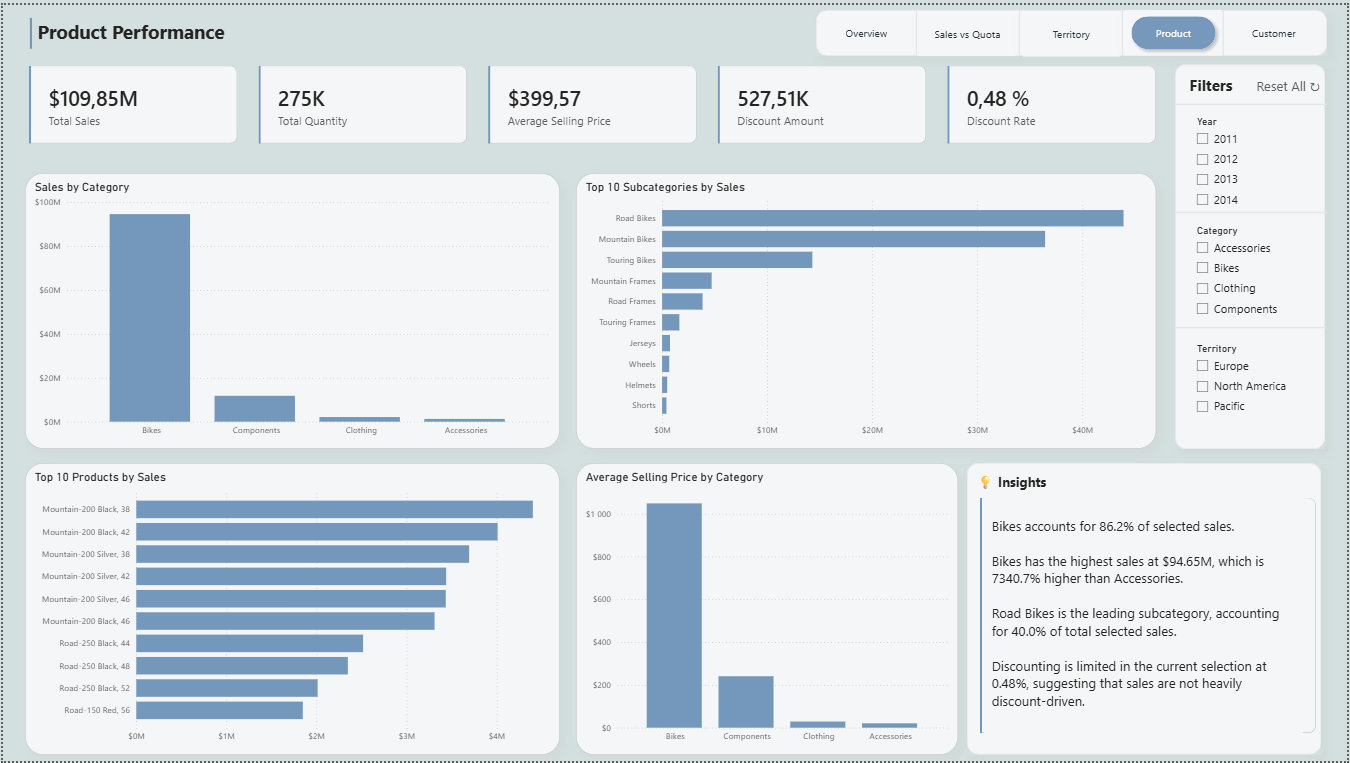

This screenshot's page, from the dashboard's own definition file:
{"tool":"powerbi","page":{"name":"4: Product Performance","canvas":[1920,1080],"ordinal":3},"visuals":[{"type":"group","id":"g1","title":"Group 4","box":[1167.9,7.7,715.1,66.2],"z":0,"group":"g4"},{"type":"shape","box":[1161.8,7.9,730,65.6],"z":0,"group":"g5"},{"type":"actionButton","title":"Sales vs Quota","box":[1309.6,10.5,138.4,62.6],"z":0,"group":"g1"},{"type":"slicer","fields":{"Values":["dim_date.Year"]},"box":[1693.1,152.1,93.3,160],"z":0,"group":"g6"},{"type":"shape","box":[1376.7,654.8,505.9,416.5],"z":0,"group":"g2"},{"type":"shape","box":[0,0,1920,1080],"z":500},{"type":"shape","box":[1299.6,7.3,12.5,66],"z":1000,"group":"g4"},{"type":"actionButton","title":"Sales vs Quota","box":[1457.8,8.6,138.2,65.3],"z":1000,"group":"g1"},{"type":"cardVisual","fields":{"Data":["Measures (2).Total Sales","Measures (2).Total Quantity","Measures (2).Average Selling Price","Measures (2).Discount Amount","Measures (2).Discount Rate"]},"box":[19.6,70,1644.3,145.7],"z":1000},{"type":"shape","box":[1675.8,279.5,217.2,32.8],"z":1000,"group":"g6"},{"type":"shape","box":[1446.8,7.7,12.5,66.2],"z":2000,"group":"g4"},{"type":"actionButton","title":"Sales vs Quota","box":[1167.9,11,132.9,57.9],"z":2000,"group":"g1"},{"type":"columnChart","title":"Sales by Category","fields":{"Category":["dim_product.CategoryName"],"Y":["Measures (2).Total Sales"]},"box":[31,240,764.3,394.3],"z":2000},{"type":"slicer","fields":{"Values":["dim_product.CategoryName"]},"box":[1692.9,307.5,157.1,168.6],"z":2000,"group":"g6"},{"type":"textbox","box":[1385.2,663.7,302.8,40.9],"z":2000,"group":"g2"},{"type":"shape","box":[1593.6,7.7,12.5,66.2],"z":3000,"group":"g4"},{"type":"actionButton","title":"Sales vs Quota","box":[1602.9,7.7,138.3,65],"z":3000,"group":"g1"},{"type":"shape","box":[1674.4,84.4,214.4,550],"z":3000},{"type":"slicer","fields":{"Values":["dim_territory.TerritoryGroup"]},"box":[1692.9,476.1,157.1,127.1],"z":3000,"group":"g6"},{"type":"actionButton","title":"Sales vs Quota","box":[1748.9,21,134.1,40],"z":4000,"group":"g1"},{"type":"textbox","box":[1684.7,93.7,95,43.3],"z":4000,"group":"g6"},{"type":"barChart","title":"Top 10 Subcategories by Sales","fields":{"Category":["dim_product.SubCategoryName"],"Y":["Measures (2).Total Sales"]},"box":[818.1,240,828.6,394.3],"z":4000},{"type":"cardVisual","fields":{"Data":["Text.P4 - Product Summary"]},"box":[1377.5,687.9,514.3,370],"z":4000,"group":"g2"},{"type":"shape","box":[1672.9,443.3,217.1,32.9],"z":5000,"group":"g6"},{"type":"barChart","title":"Top 10 Products by Sales","fields":{"Category":["dim_product.ProductName"],"Y":["Measures (2).Total Sales"]},"box":[31.4,654.3,764.3,417.1],"z":5000},{"type":"actionButton","title":"Reset All   ↻","box":[1785.8,97.8,99.4,28.3],"z":6000,"group":"g6"},{"type":"columnChart","fields":{"Category":["dim_product.CategoryName"],"Y":["Measures (2).Average Selling Price"]},"box":[818.6,654.3,545.7,417.1],"z":6000},{"type":"shape","box":[1673.9,125.8,217.1,32.9],"z":7000,"group":"g6"},{"type":"group","id":"g2","title":"Group 2","box":[1376.7,654.8,515,416.7],"z":7000},{"type":"cardVisual","fields":{"Data":["Text.Sales reached $109,85M"]},"box":[20.9,1.4,406.8,78.2],"z":8000},{"type":"group","id":"g3","title":"Group 6","box":[1167.9,7.3,715.1,66.8],"z":9000,"group":"g5"},{"type":"shape","box":[1737.7,7.8,12.3,66.4],"z":9000,"group":"g3"},{"type":"textbox","box":[44.3,14.5,388.4,53.2],"z":9000},{"type":"group","id":"g4","title":"Group 5","box":[1167.9,7.3,715.1,66.6],"z":10000,"group":"g3"},{"type":"tableEx","fields":{"Values":["Insights.Insight P4 - Product Narrativ"]},"box":[1401.4,697.1,455.7,351.4],"z":10000},{"type":"group","id":"g5","title":"Group 7","box":[1161.8,7.3,730,66.8],"z":11000},{"type":"group","id":"g6","title":"Group 1","box":[1672.9,93.7,220.1,509.6],"z":12000}]}

Visuals, with their boxes in screenshot pixels (x1, y1, x2, y2), scaled from the page's 1920x1080 canvas onto the 1350x763 screenshot:
"Group 4" group: 821:5:1324:52
shape: 817:6:1330:52
"Sales vs Quota" actionButton: 921:7:1018:52
slicer - dim_date.Year: 1190:107:1256:220
shape: 968:463:1324:757
shape: 0:0:1349:762
shape: 914:5:923:52
"Sales vs Quota" actionButton: 1025:6:1122:52
cardVisual - Measures (2).Total Sales x Measures (2).Total Quantity: 14:49:1170:152
shape: 1178:197:1331:221
shape: 1017:5:1026:52
"Sales vs Quota" actionButton: 821:8:915:49
"Sales by Category" columnChart: 22:170:559:448
slicer - dim_product.CategoryName: 1190:217:1301:336
textbox: 974:469:1187:498
shape: 1120:5:1129:52
"Sales vs Quota" actionButton: 1127:5:1224:51
shape: 1177:60:1328:448
slicer - dim_territory.TerritoryGroup: 1190:336:1301:426
"Sales vs Quota" actionButton: 1230:15:1324:43
textbox: 1185:66:1251:97
"Top 10 Subcategories by Sales" barChart: 575:170:1158:448
cardVisual - Text.P4 - Product Summary: 969:486:1330:747
shape: 1176:313:1329:336
"Top 10 Products by Sales" barChart: 22:462:559:757
"Reset All   ↻" actionButton: 1256:69:1326:89
columnChart - dim_product.CategoryName x Measures (2).Average Selling Price: 576:462:959:757
shape: 1177:89:1330:112
"Group 2" group: 968:463:1330:757
cardVisual - Text.Sales reached $109,85M: 15:1:301:56
"Group 6" group: 821:5:1324:52
shape: 1222:6:1230:52
textbox: 31:10:304:48
"Group 5" group: 821:5:1324:52
tableEx - Insights.Insight P4 - Product Narrativ: 985:492:1306:741
"Group 7" group: 817:5:1330:52
"Group 1" group: 1176:66:1331:426
